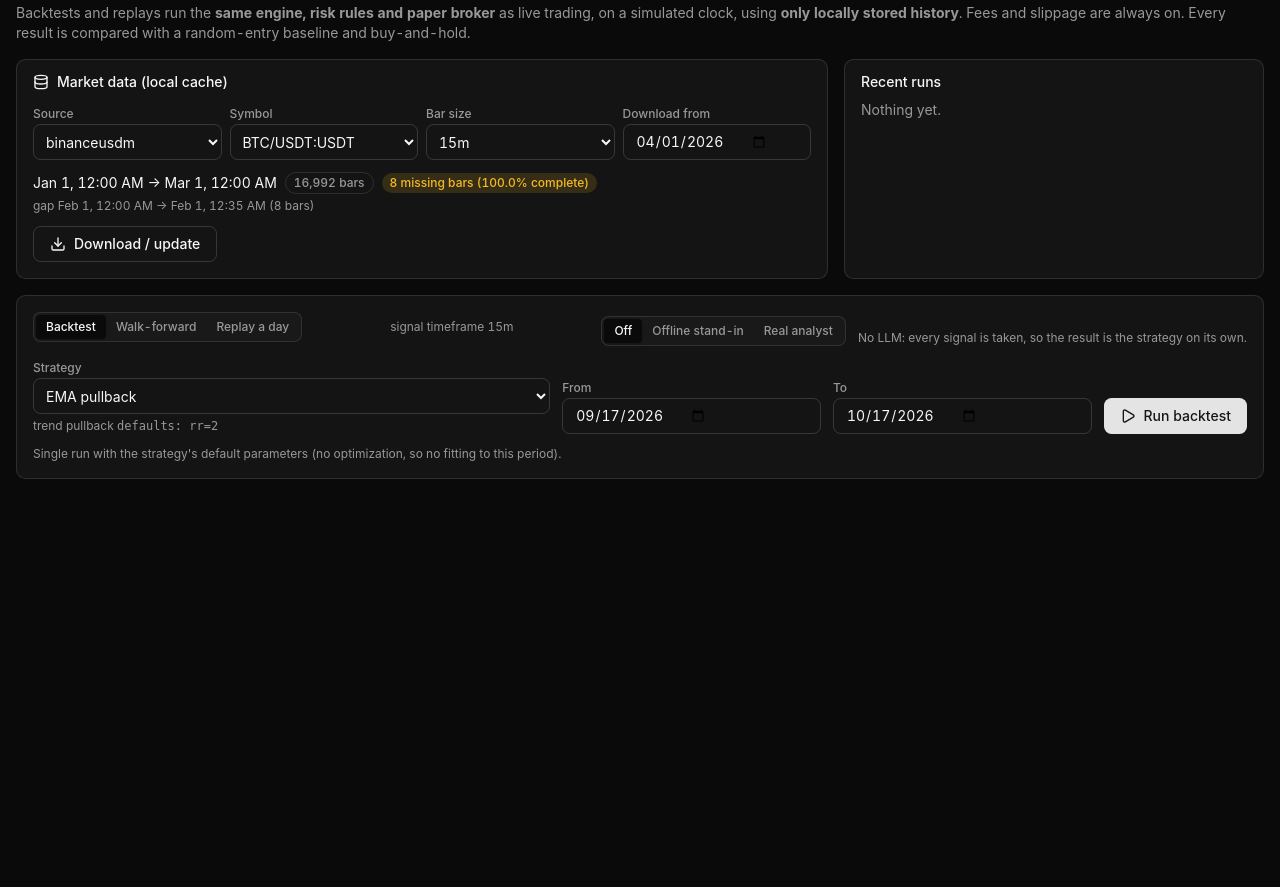
Test: BacktestPage › shows data coverage with gaps and runs a backtest to a result
Check: the element with test id "coverage" shows "8 missing bars", box [390,175,589,190]
Check: the element with test id "coverage" shows "gap", box [33,198,58,213]
Click the button "Run backtest": click(1175, 416) [1104,398,1247,434]
(page scrolled)
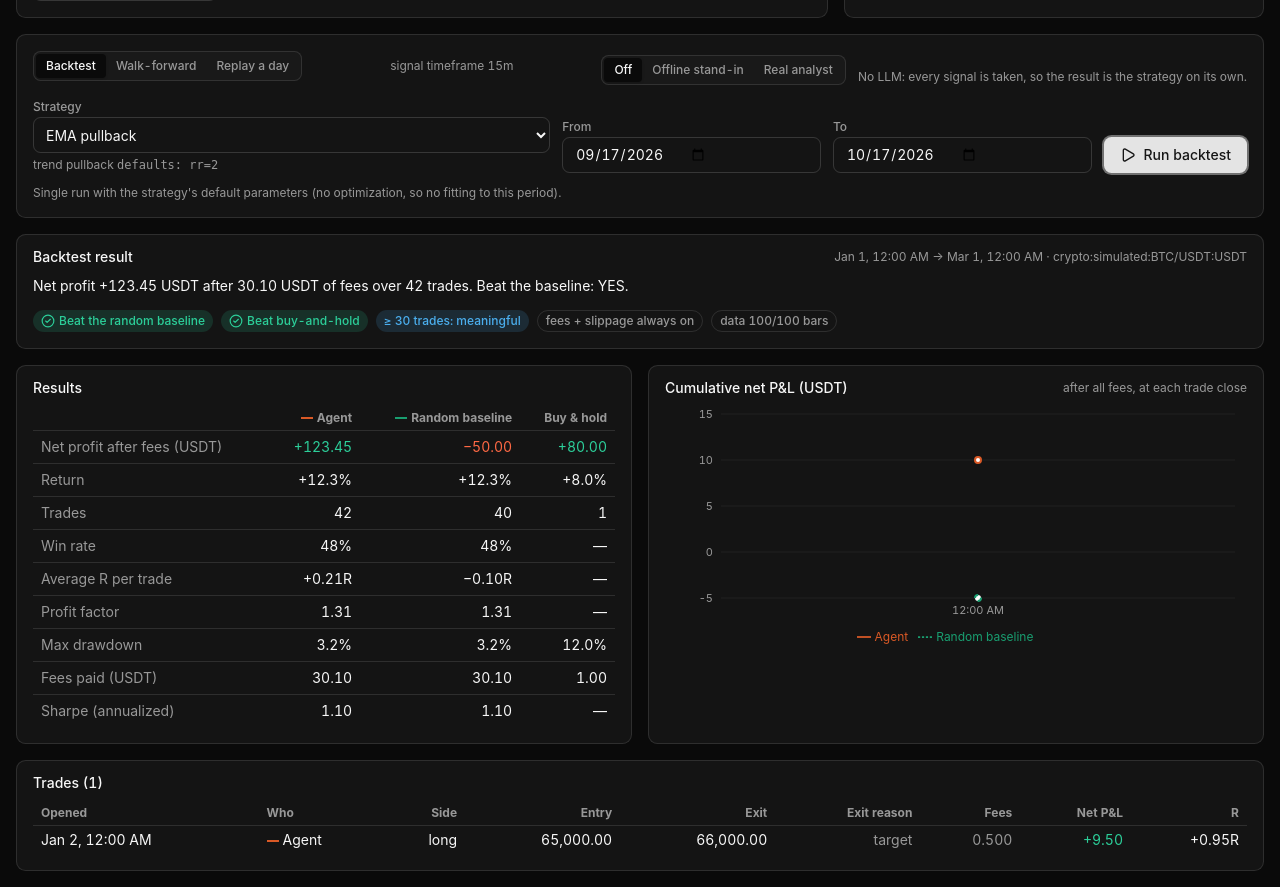
Check: the element with test id "result-view" is shown
